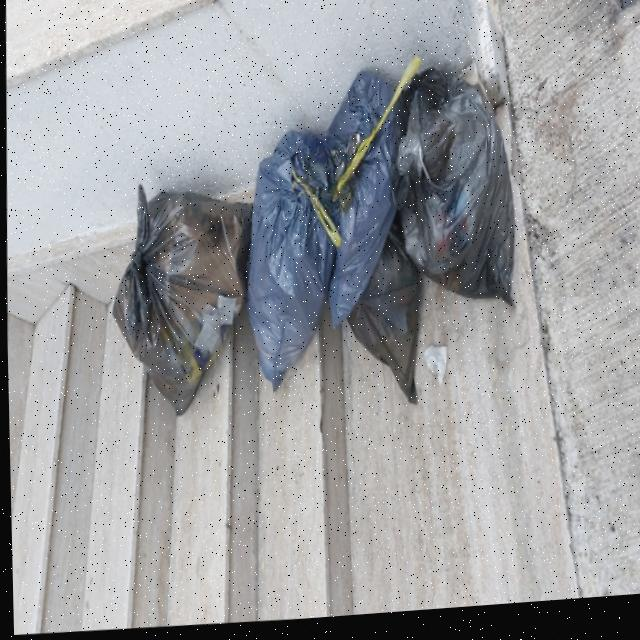Mixed Waste -Black Bag-: (108, 189, 251, 424), (400, 71, 520, 312), (348, 227, 422, 396)
Other: (246, 76, 401, 398)
